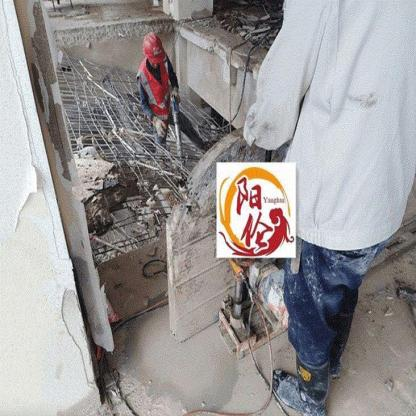rebar: (55, 55, 229, 218)
